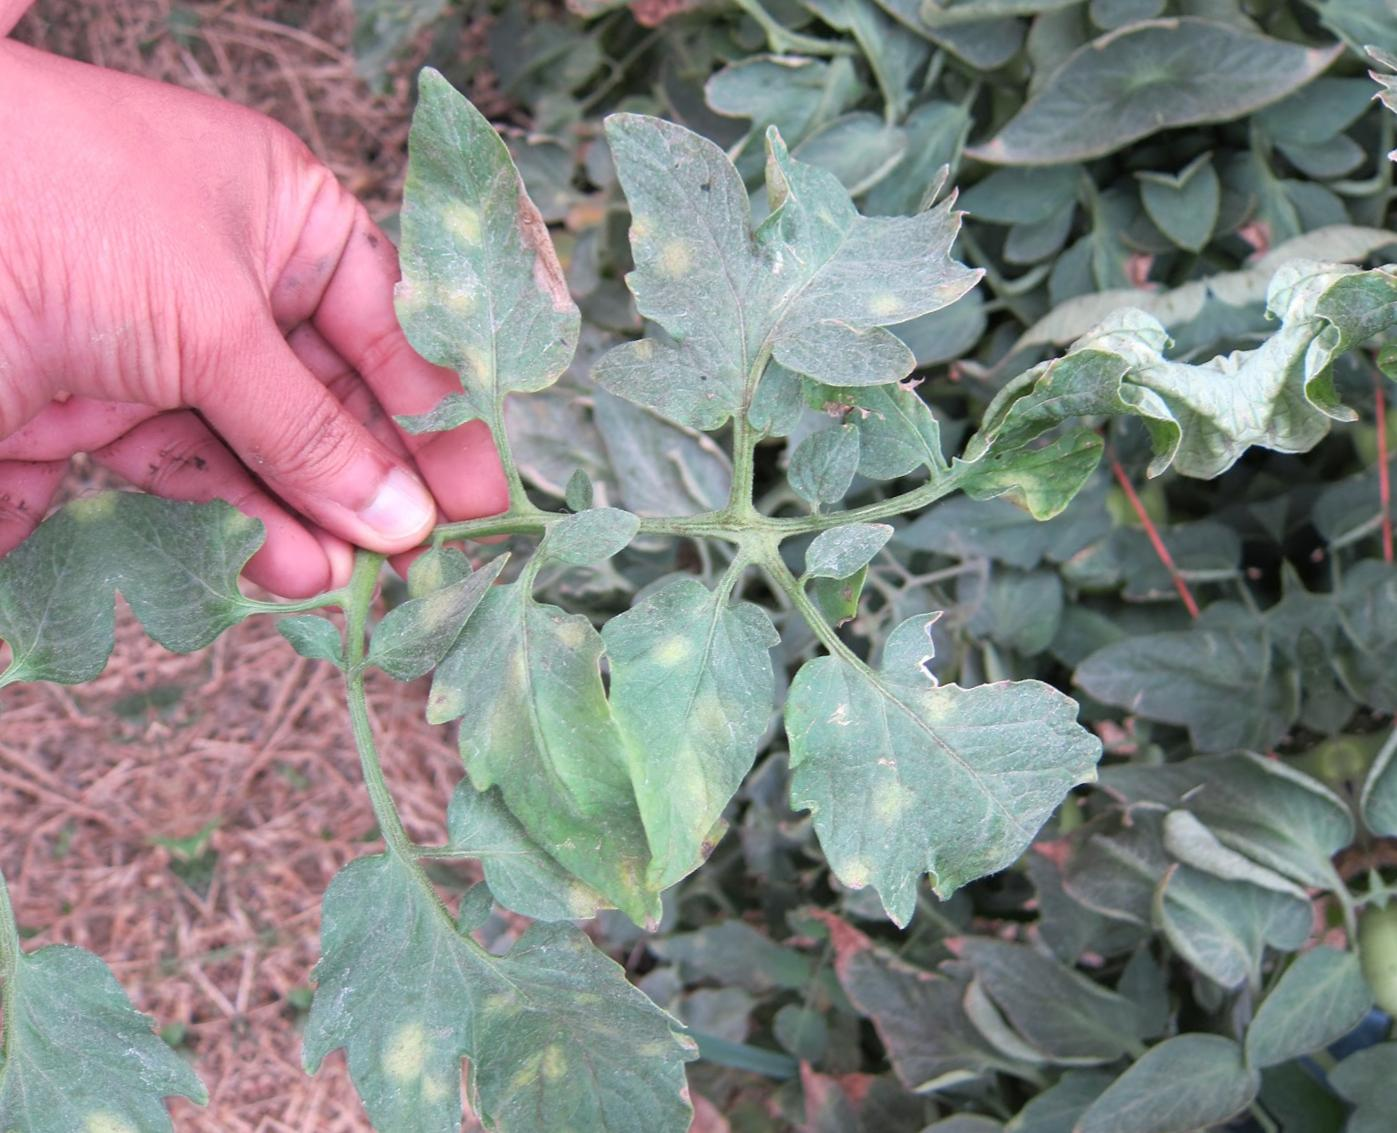Tomato mold leaf: (537, 15, 1023, 464), (745, 564, 1134, 955), (309, 15, 642, 443), (356, 539, 665, 999), (486, 563, 843, 938), (241, 785, 542, 1133), (927, 283, 1262, 555), (429, 881, 768, 1133), (84, 432, 306, 686)
